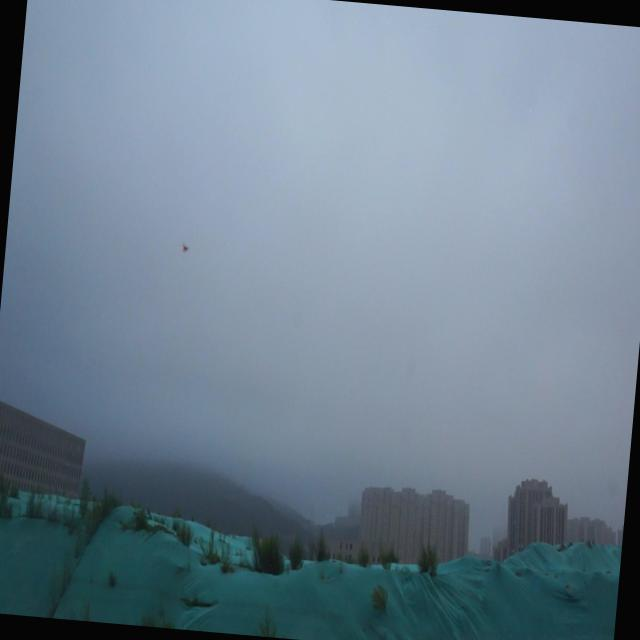drone: (175, 240, 192, 258)
